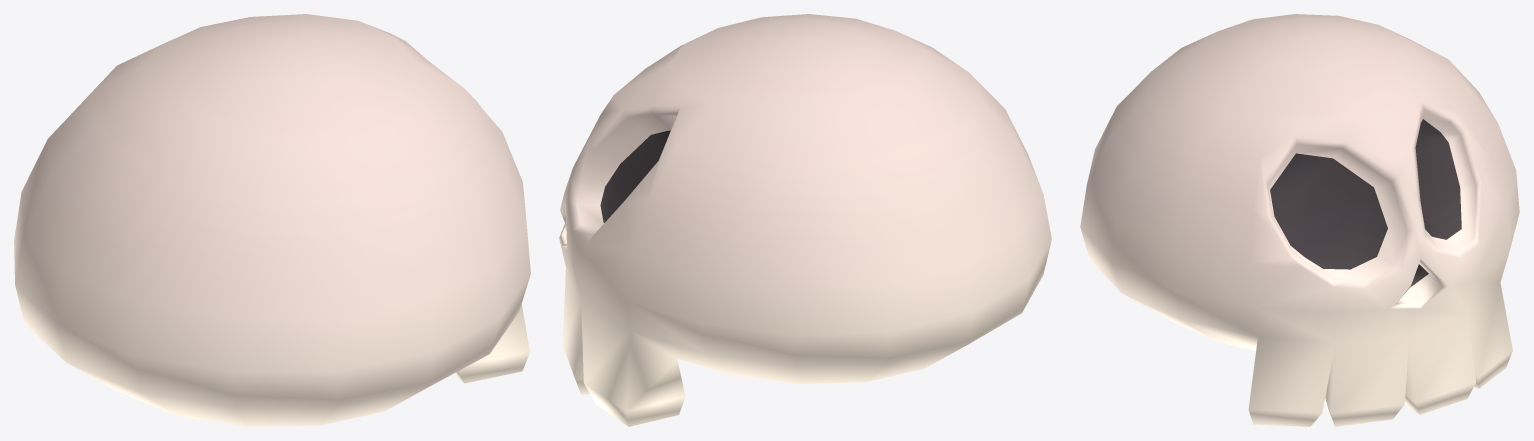
The model's file is skull.glb.
3 views of the same model, side by side, from view 1: azimuth 30°, elevation 25°; view 2: azimuth 150°, elevation 25°; view 3: azimuth 270°, elevation 25° (orthographic). The views are drawn at different scales.
Visible parts, largest first — view 1: Skull.01; view 2: Skull.01; view 3: Skull.01.
Boxes of the visible parts, box(x1,y1,x2,y2) form: Skull.01: box(14, 14, 530, 426); Skull.01: box(559, 14, 1051, 426); Skull.01: box(1080, 14, 1519, 426).
Size of the model in its own units: 2.3 by 1.72 by 2.24.
Materials: 1 (1 with a texture image).
